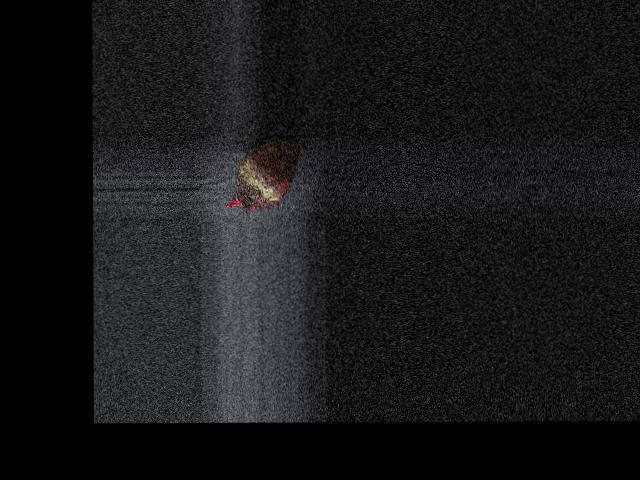beet: (224, 141, 310, 213)
